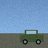vehicle: (20, 30, 44, 44)
